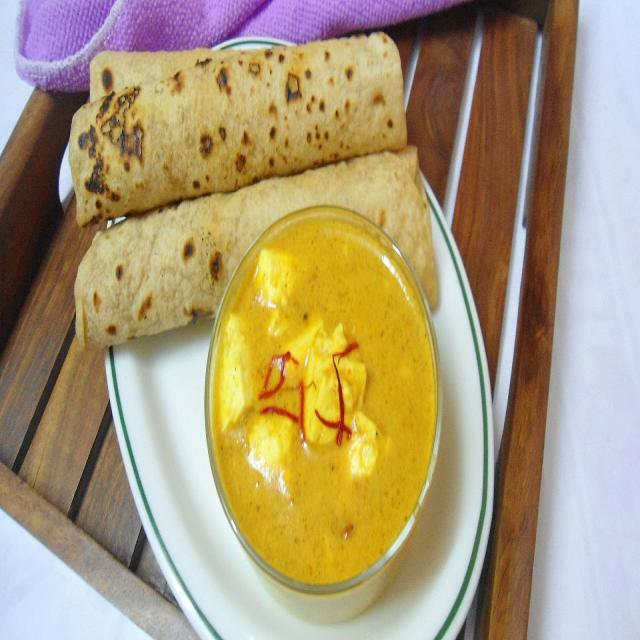ShahiPaneer: (218, 220, 434, 586)
